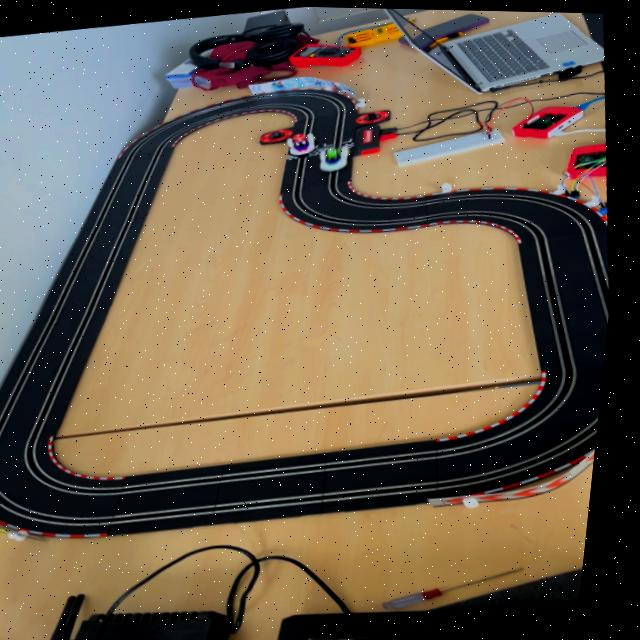mario: (288, 128, 322, 156)
yoshi: (318, 141, 357, 172)
